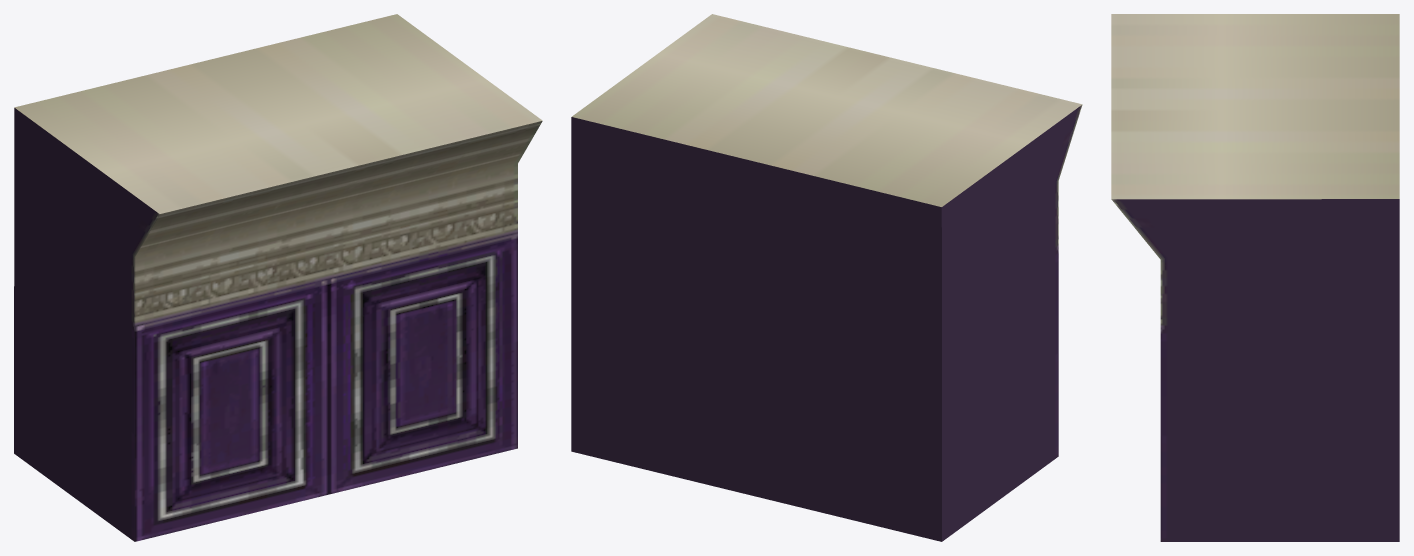
Rendered from furni_0201125_01.FBX.
The picture shows the model from 3 angles, left to right: view 1: azimuth 30°, elevation 25°; view 2: azimuth 150°, elevation 25°; view 3: azimuth 270°, elevation 25°; orthographic projection. The views are drawn at different scales.
Visible parts, largest first — view 1: furni_0201125_01; view 2: furni_0201125_01; view 3: furni_0201125_01.
Boxes of the visible parts, left/top/right/bottom form: furni_0201125_01: left=14, top=14, right=542, bottom=541; furni_0201125_01: left=571, top=14, right=1082, bottom=541; furni_0201125_01: left=1111, top=14, right=1399, bottom=541.
Bounding box in the file's own units: 81.43 × 70.29 × 53.58.
1 material, 1 textured.
